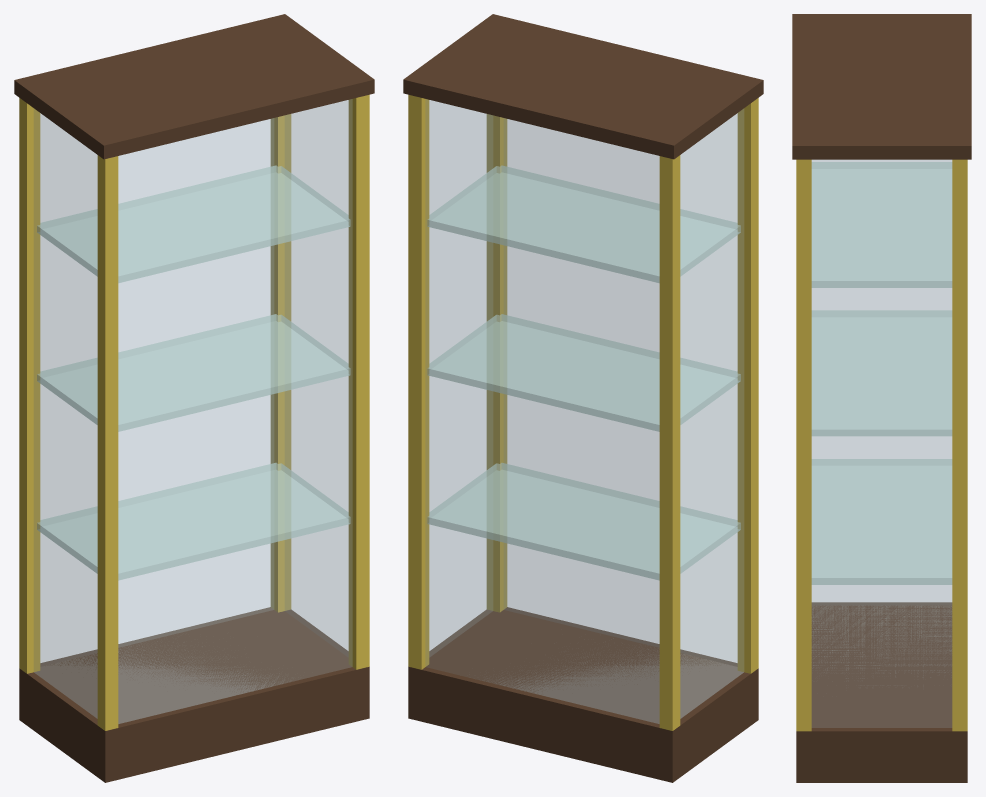
File: cab_tall_vitrine.glb
The picture shows the model from 3 angles, left to right: view 1: azimuth 30°, elevation 25°; view 2: azimuth 150°, elevation 25°; view 3: azimuth 270°, elevation 25°; orthographic projection.
Parts seen in each view (by area): view 1: cab_tall_vitrine; view 2: cab_tall_vitrine; view 3: cab_tall_vitrine.
Part boxes in pixels (x1,y1,x2,y2): cab_tall_vitrine: (14,14,374,782); cab_tall_vitrine: (403,14,763,782); cab_tall_vitrine: (792,14,971,782).
Bounding box in the file's own units: 0.82 × 1.85 × 0.47.
